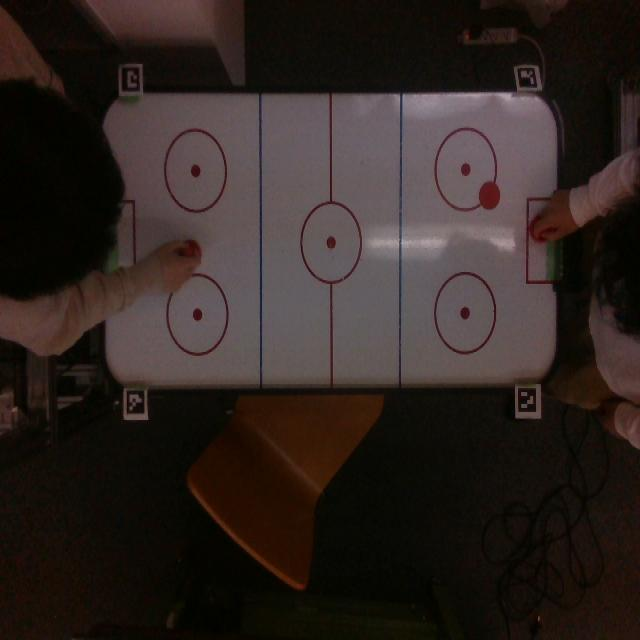puck: (479, 182, 500, 210)
